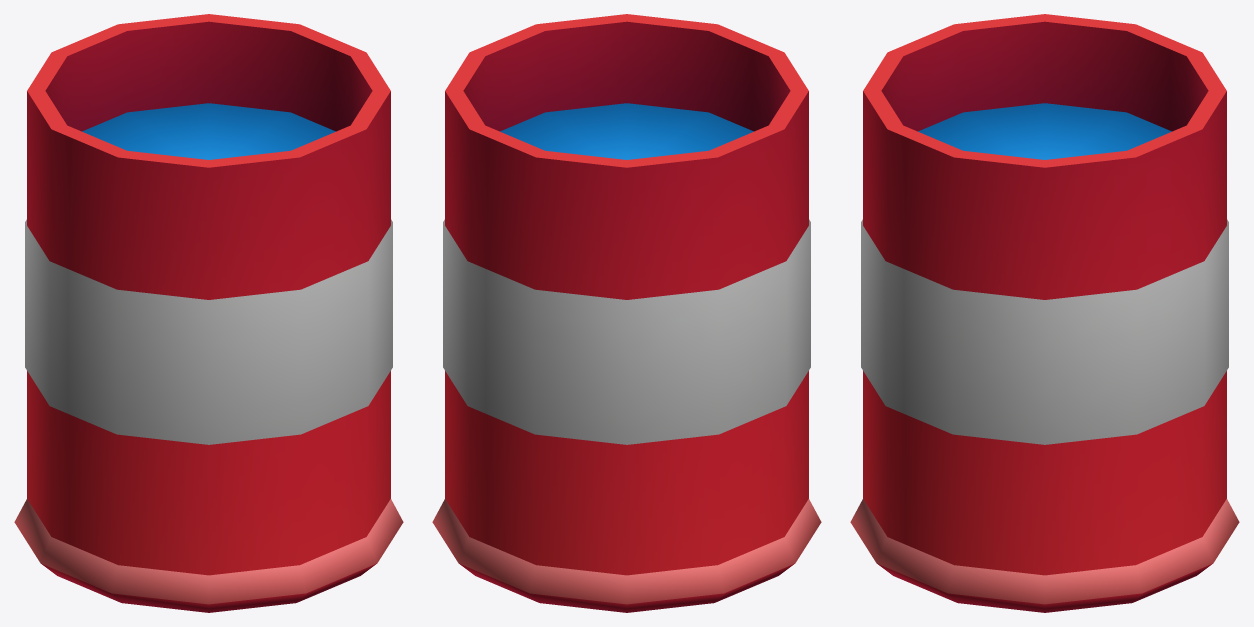
The model's file is Barrel_3B.fbx.
The picture shows the model from 3 angles, left to right: view 1: azimuth 30°, elevation 25°; view 2: azimuth 150°, elevation 25°; view 3: azimuth 270°, elevation 25°; orthographic projection.
Parts seen in each view (by area): view 1: Barrel_3B; view 2: Barrel_3B; view 3: Barrel_3B.
Part boxes in pixels (bbox=[...]): Barrel_3B: bbox=[14, 14, 403, 612]; Barrel_3B: bbox=[432, 14, 821, 612]; Barrel_3B: bbox=[850, 14, 1239, 612].
Size of the model in its own units: 86.64 by 110 by 86.64.
